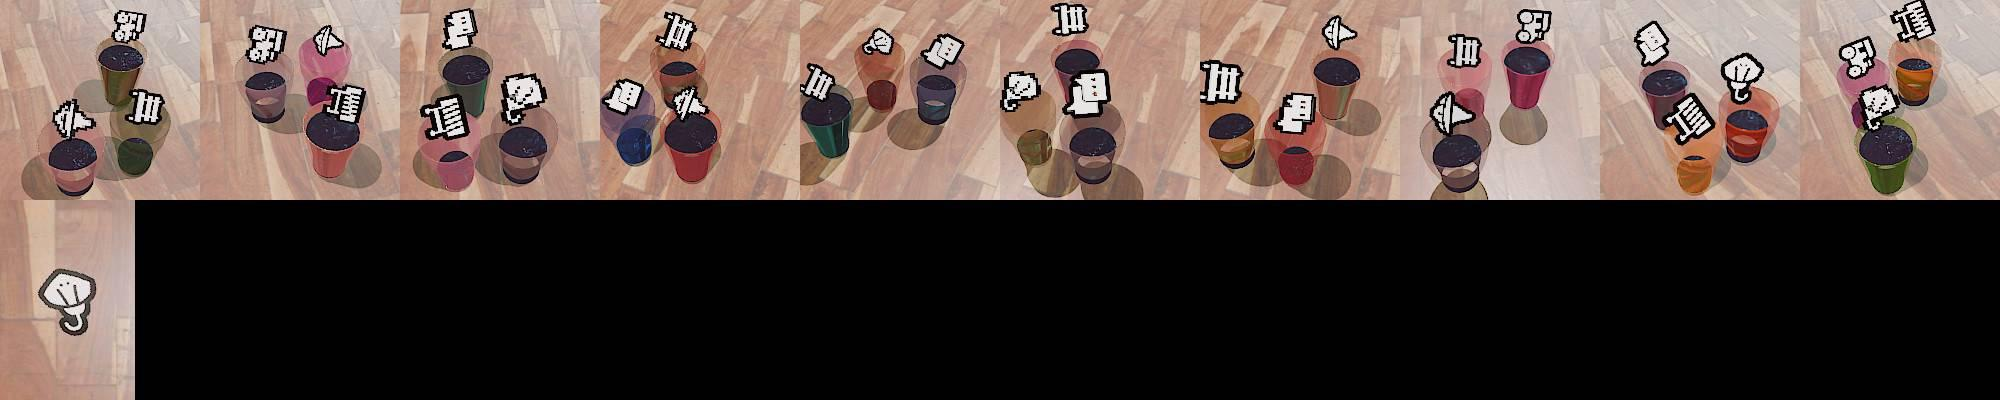icon: (38, 266, 99, 338), (1665, 92, 1717, 145), (500, 71, 547, 124), (421, 92, 471, 140), (1429, 88, 1477, 138), (1719, 52, 1764, 104), (1064, 69, 1111, 117), (1855, 85, 1901, 130), (1200, 59, 1244, 104), (1890, 0, 1936, 43), (1273, 90, 1318, 134), (51, 97, 97, 139), (325, 82, 367, 125), (1000, 70, 1042, 112), (244, 24, 288, 64), (601, 76, 645, 116), (1634, 20, 1672, 66), (658, 11, 699, 54), (1839, 37, 1878, 80), (441, 8, 478, 52), (921, 33, 964, 70), (128, 87, 166, 126), (800, 62, 837, 102), (670, 85, 710, 121), (1048, 3, 1089, 38), (1514, 9, 1552, 46), (1321, 15, 1357, 52), (1446, 33, 1482, 69), (112, 9, 148, 43), (861, 27, 895, 57), (312, 24, 344, 56)
